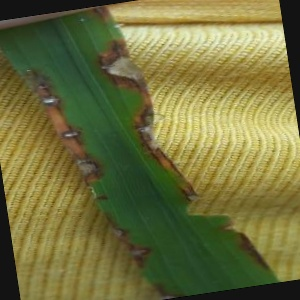Brown_Spot: (96, 36, 141, 93), (129, 98, 166, 159), (22, 68, 60, 116), (72, 147, 107, 193), (125, 239, 153, 267), (61, 117, 87, 145), (181, 180, 206, 202), (111, 220, 127, 238)
